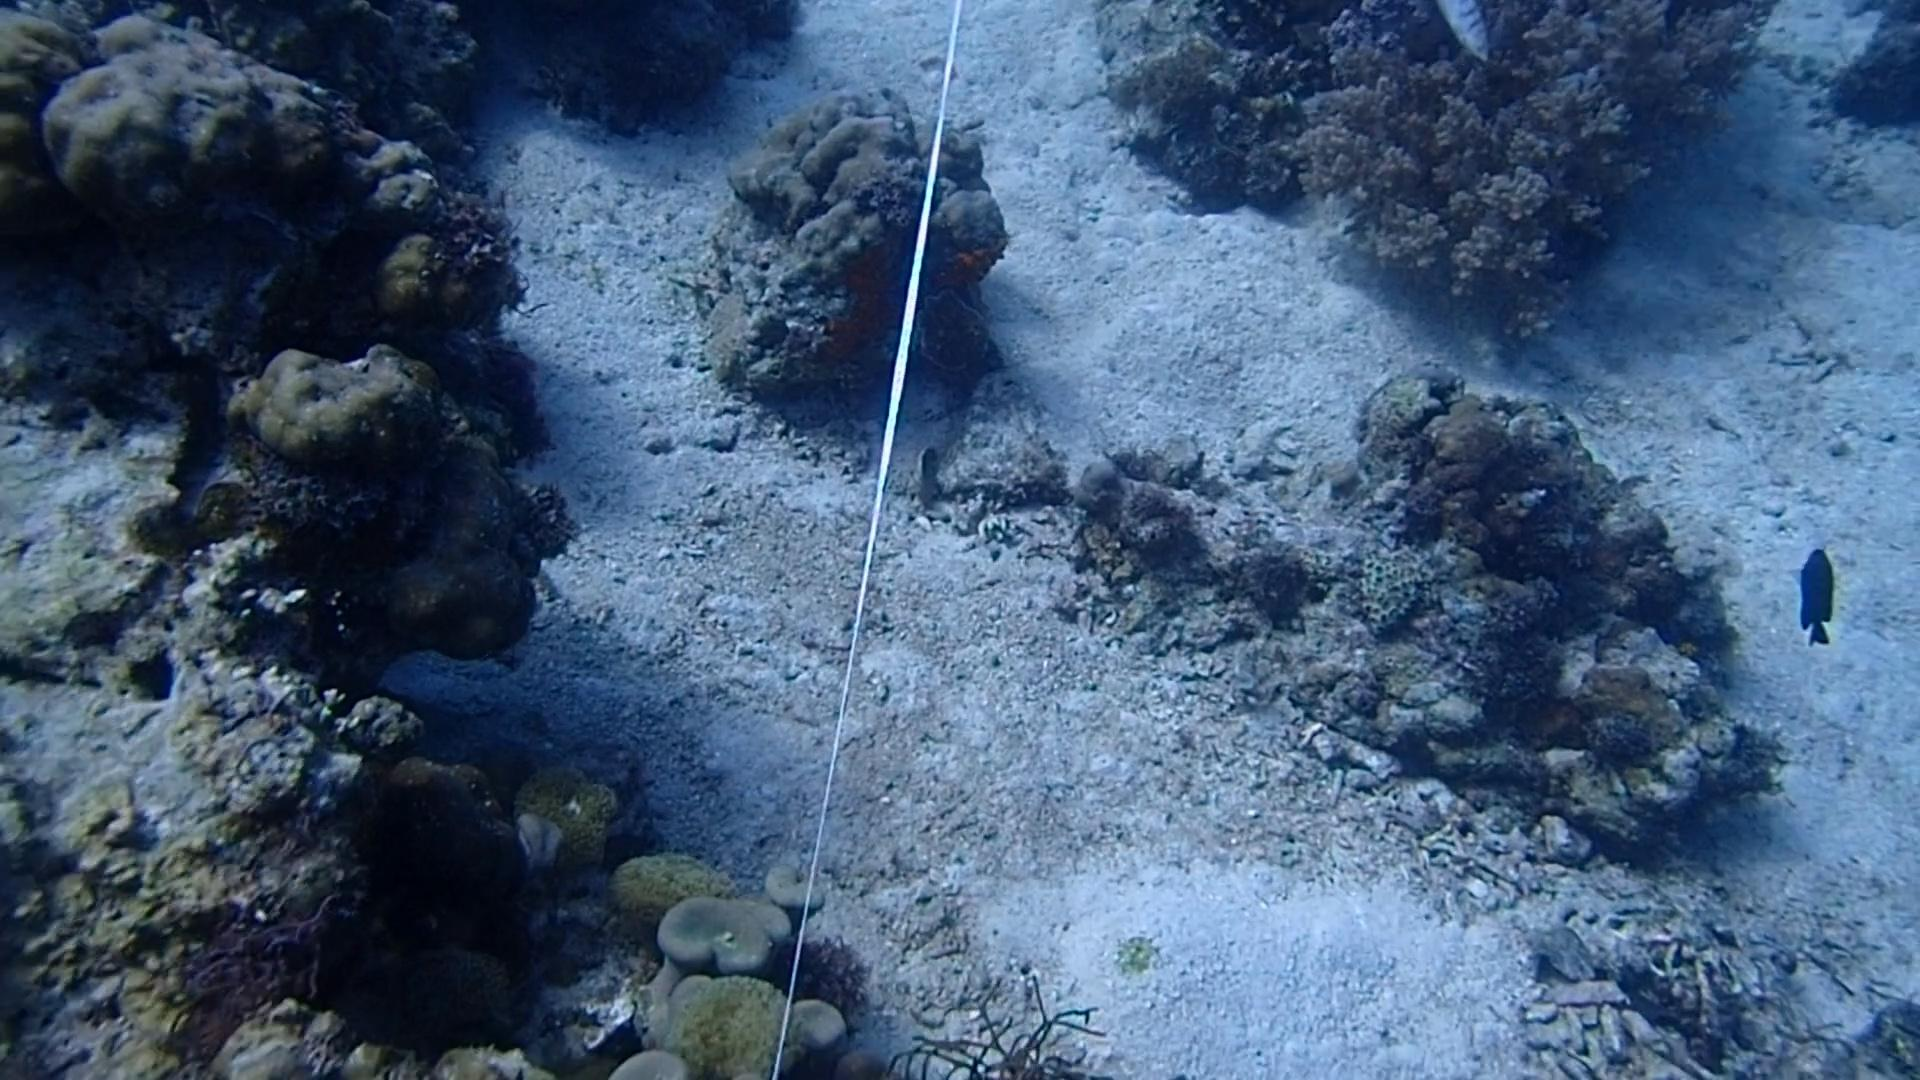Dark Fish: (1788, 537, 1847, 649)
